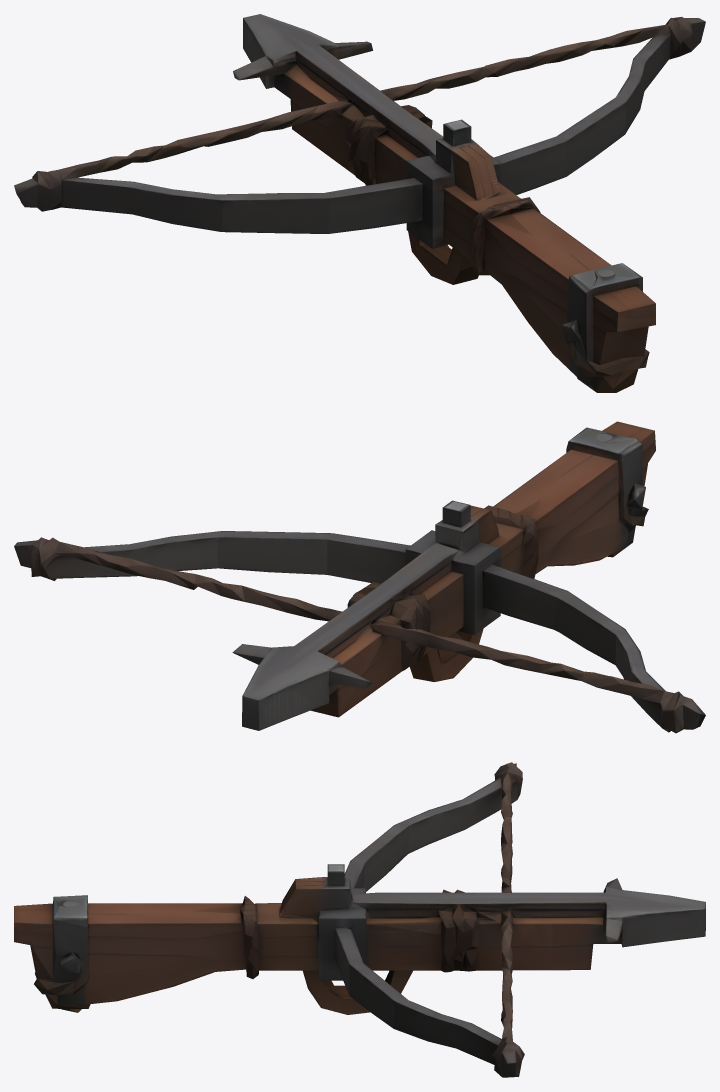
The model's file is base_basic_pbr.fbx.
3 views of the same model, one above another, from view 1: azimuth 30°, elevation 25°; view 2: azimuth 150°, elevation 25°; view 3: azimuth 270°, elevation 25° (orthographic). The views are drawn at different scales.
Parts seen in each view (by area): view 1: model; view 2: model; view 3: model.
Part boxes in pixels (box(x1,y1,x2,y2)): model: box(14, 14, 705, 392); model: box(14, 421, 705, 733); model: box(14, 762, 705, 1077).
Bounding box in the file's own units: 175 × 38.55 × 170.
Materials: 1 (1 with a texture image).
